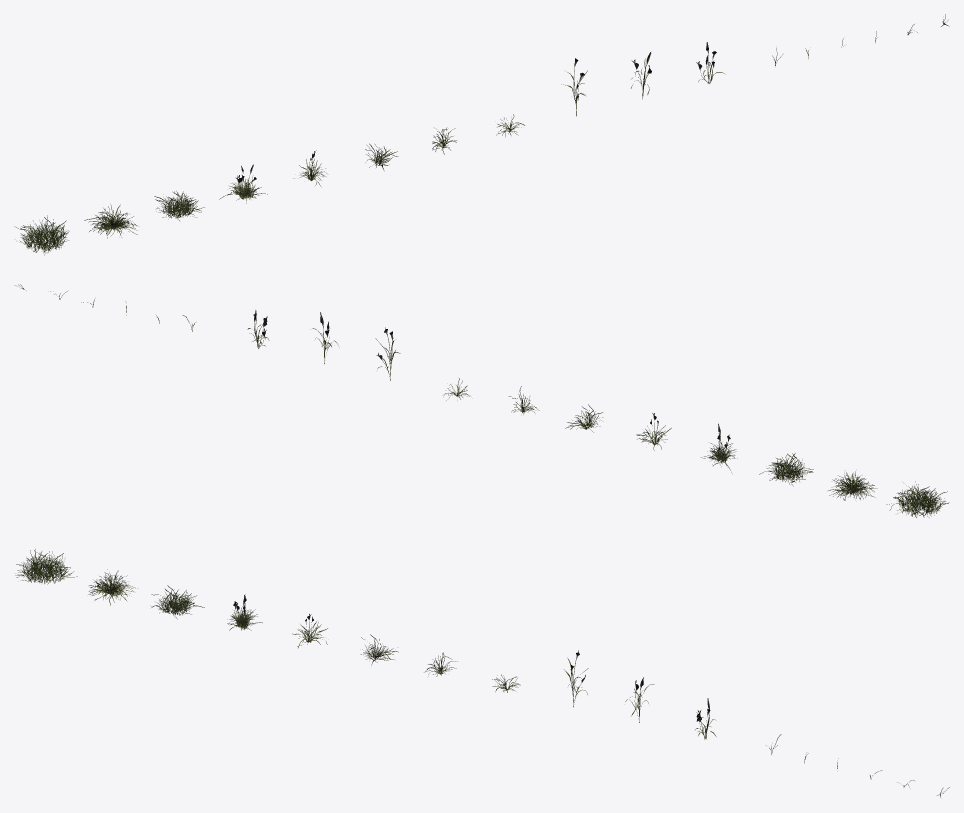
Rendered from grass_medium_01.glb.
3 views of the same model, one above another, from view 1: azimuth 30°, elevation 25°; view 2: azimuth 150°, elevation 25°; view 3: azimuth 330°, elevation 25° (orthographic).
Parts seen in each view (by area): view 1: grass_medium_01_large_a_LOD0, grass_medium_01_large_c_LOD0, grass_medium_01_large_b_LOD0; view 2: grass_medium_01_large_a_LOD0, grass_medium_01_large_c_LOD0, grass_medium_01_large_b_LOD0; view 3: grass_medium_01_large_a_LOD0, grass_medium_01_large_b_LOD0, grass_medium_01_large_c_LOD0.
Part boxes in pixels (box(x1,y1,x2,y2)): grass_medium_01_large_a_LOD0: box(14, 215, 69, 255); grass_medium_01_large_c_LOD0: box(154, 191, 204, 220); grass_medium_01_large_b_LOD0: box(84, 204, 137, 238); grass_medium_01_large_a_LOD0: box(886, 481, 949, 517); grass_medium_01_large_c_LOD0: box(759, 453, 813, 486); grass_medium_01_large_b_LOD0: box(828, 471, 877, 500); grass_medium_01_large_a_LOD0: box(15, 549, 77, 584); grass_medium_01_large_b_LOD0: box(88, 569, 137, 605); grass_medium_01_large_c_LOD0: box(151, 585, 204, 619).
Bounding box in the file's own units: 5.6 × 0.3426 × 0.3266.
1 material, 1 textured.
